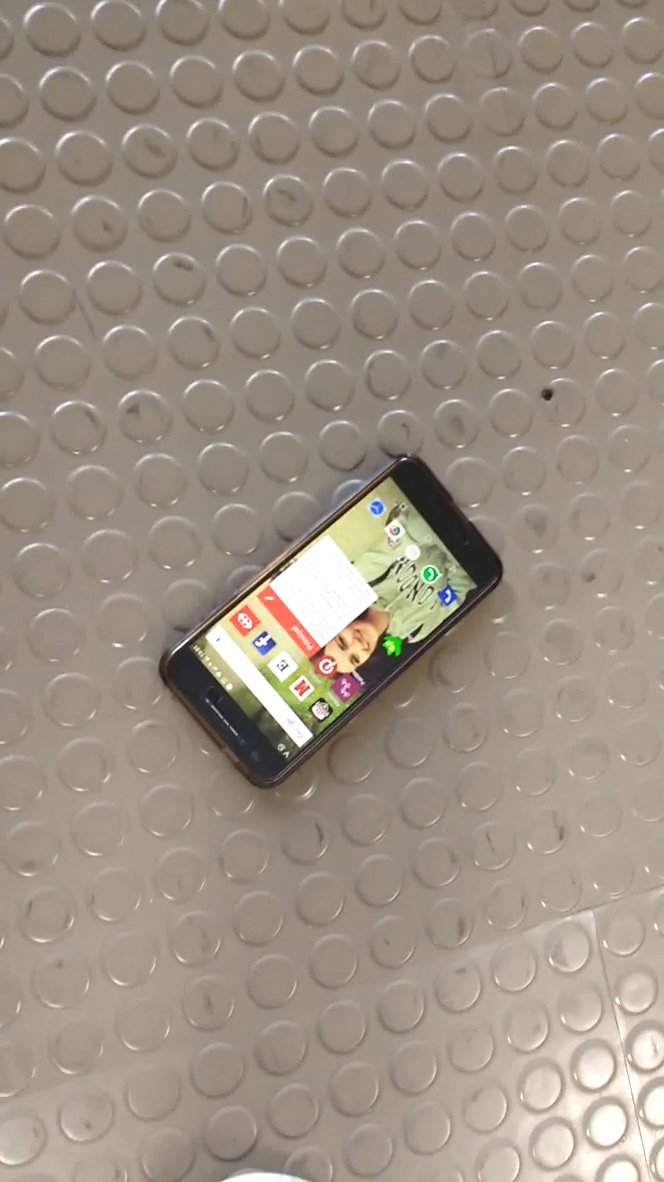phone: (144, 440, 525, 803)
